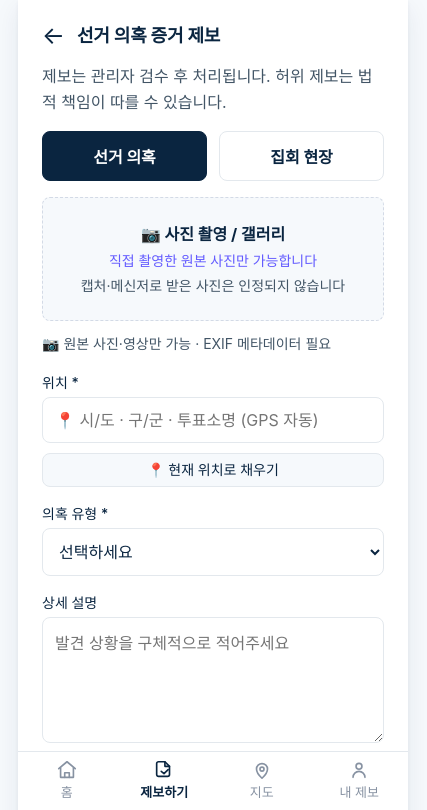
Test case: ReportForm 제출 › 400 validation_error 시 필드 에러를 표시하고 입력을 보존한다
Type "관찰한 정황" into the text box labelled "상세 설명".
click(213, 680); type("관찰한 정황")  # box [42,617,384,743]
(page scrolled)
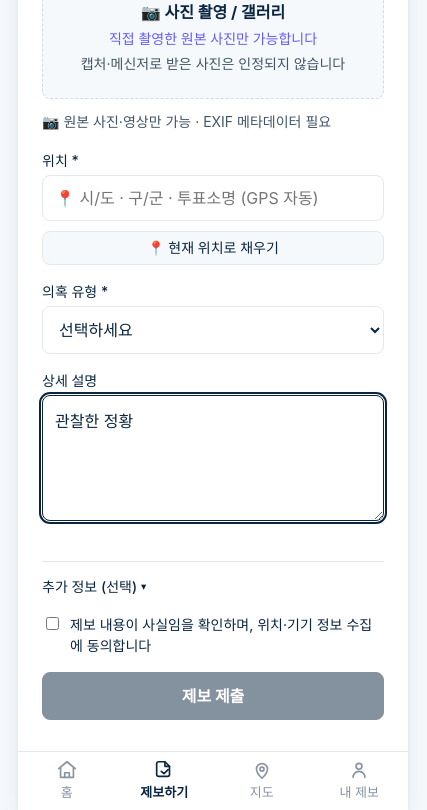
Click the checkbox labelled "제보 내용이 사실임을 확인하며, 위치·기기 정보 수집에 동의합니다".
click(52, 624)  # box [46,617,59,630]
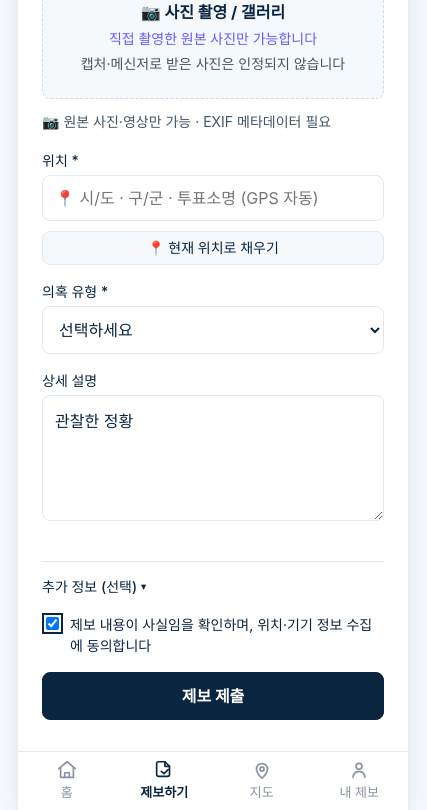
Click the button "제보 제출".
click(213, 696)  # box [42,672,384,720]
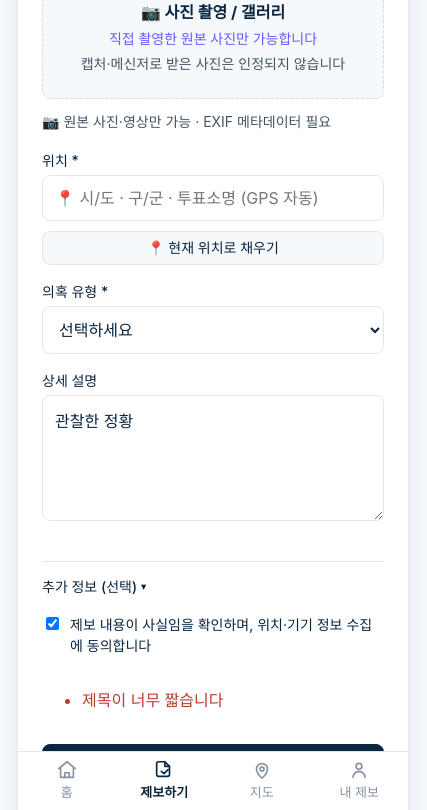
Expected: the button "제보 제출" is shown, [42,744,384,792]
Now the list item "제목이 너무 짧습니다" is shown, box [82,690,224,710]
